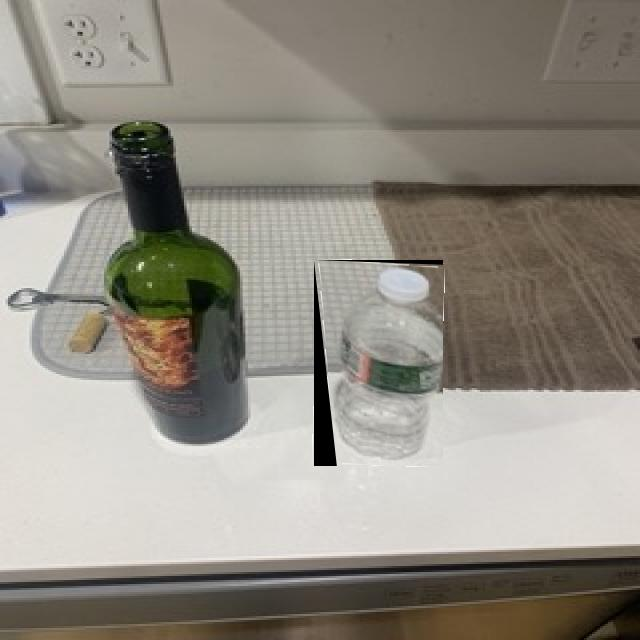water_bottle: (314, 260, 443, 466)
